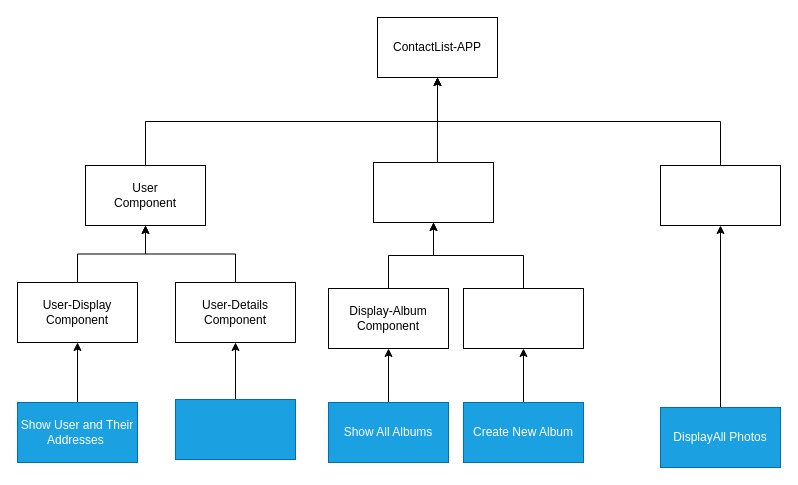
This 798x485 diagram has some shape labels left out. Here are the shapes that lost their labels. From the top down, the box of each, then its label:
(372, 162, 494, 222): Album Component
(660, 164, 780, 226): Photos Component
(462, 288, 584, 348): Create-Album Component
(174, 398, 296, 460): Show each User with his Album and Photos
